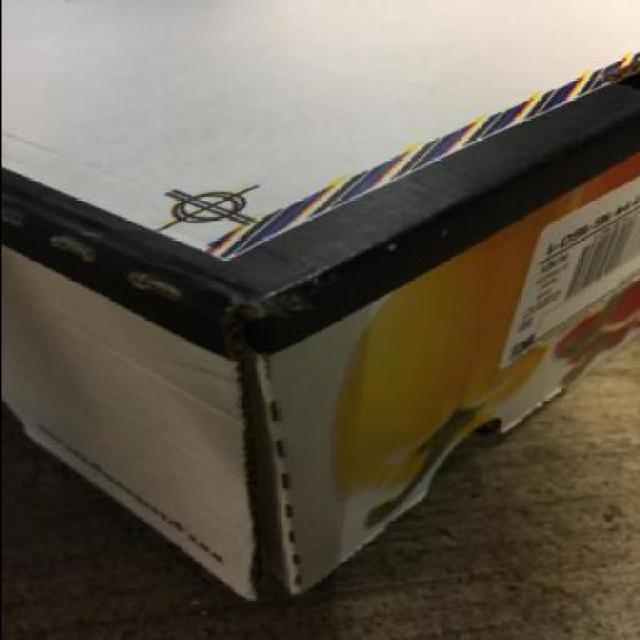CARDBOARD: (1, 0, 638, 600)
